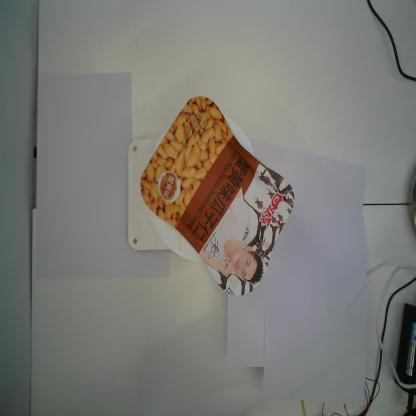Dried Fruit: (140, 96, 295, 296)
